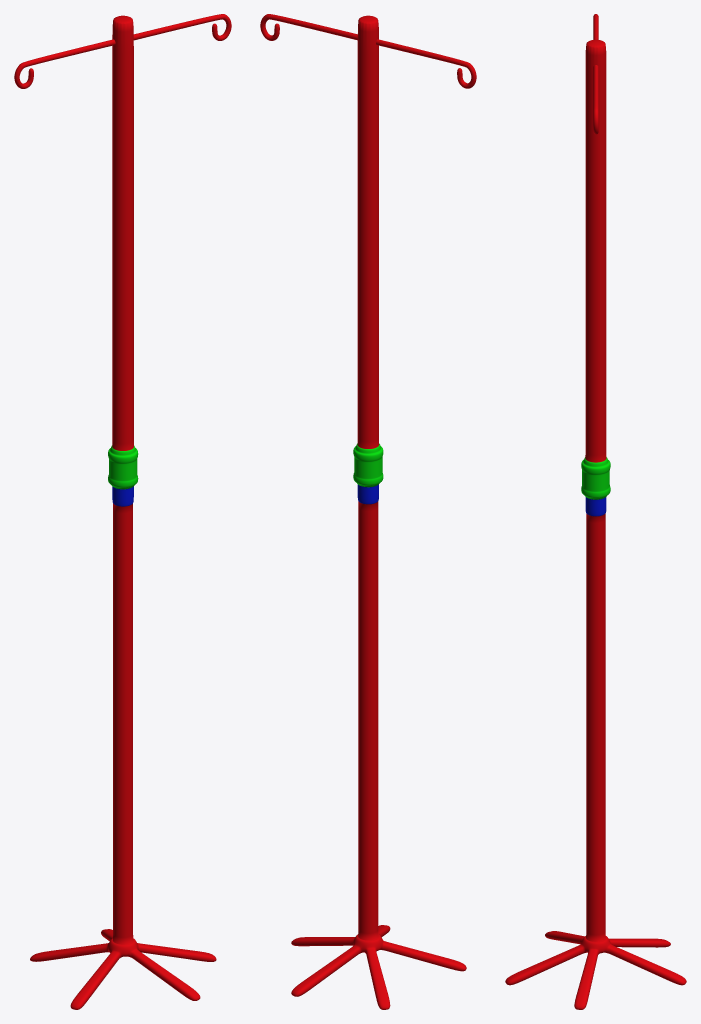
Rendered from IV-pole.fbx.
3 views of the same model, side by side, from view 1: azimuth 30°, elevation 25°; view 2: azimuth 150°, elevation 25°; view 3: azimuth 270°, elevation 25° (orthographic). The views are drawn at different scales.
Visible parts, largest first — view 1: Pole; view 2: Pole; view 3: Pole.
Part boxes in pixels (x1,y1,x2,y2): Pole: (14, 14, 231, 1009); Pole: (260, 14, 476, 1009); Pole: (505, 14, 686, 1009).
Size of the model in its own units: 0.4262 by 1.8 by 0.3185.
